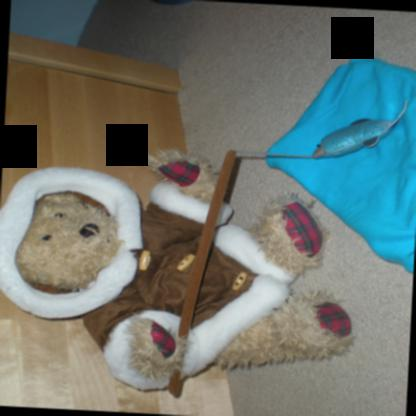handbag: (263, 50, 416, 272)
